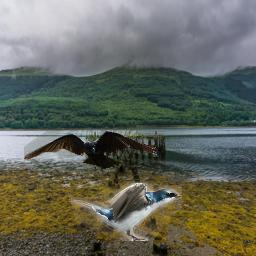Crow: (24, 130, 158, 176)
Swallow: (69, 181, 182, 241)
